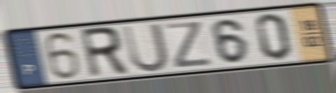0: (254, 12, 295, 63)
6: (44, 30, 83, 81), (209, 17, 250, 65)
R: (78, 25, 132, 80)
U: (120, 21, 170, 74)
Z: (164, 20, 216, 70)
